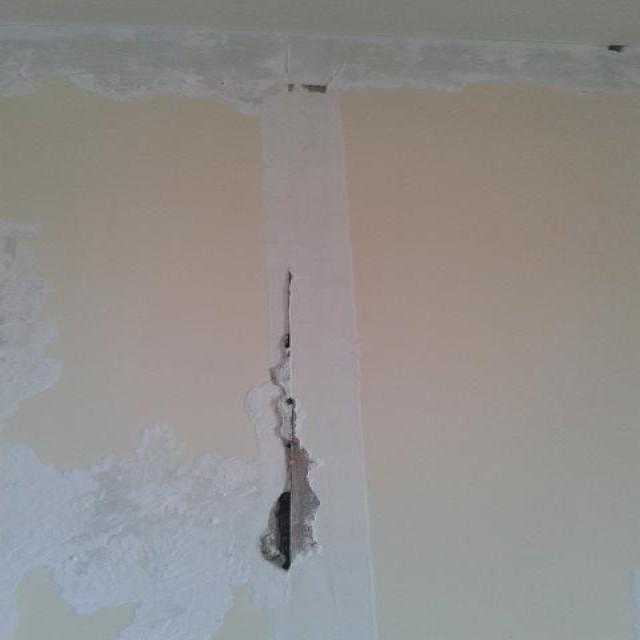spalling: (259, 271, 324, 572)
